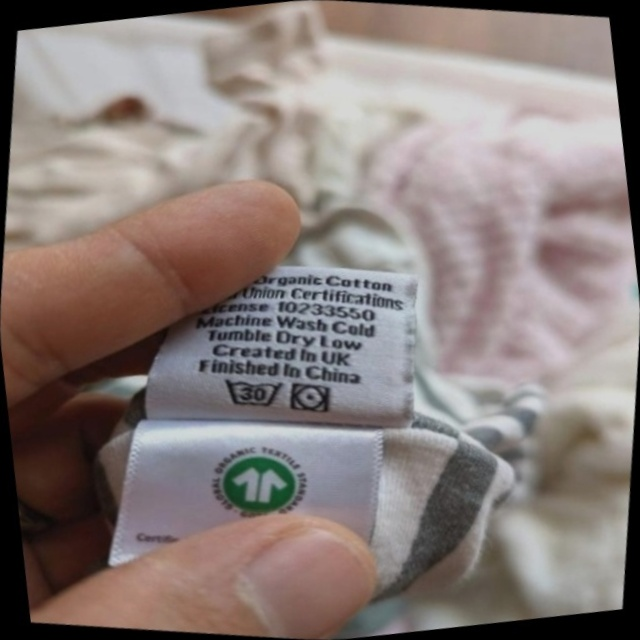30C: (211, 362, 293, 424)
tumble_dry_low: (280, 371, 341, 426)
